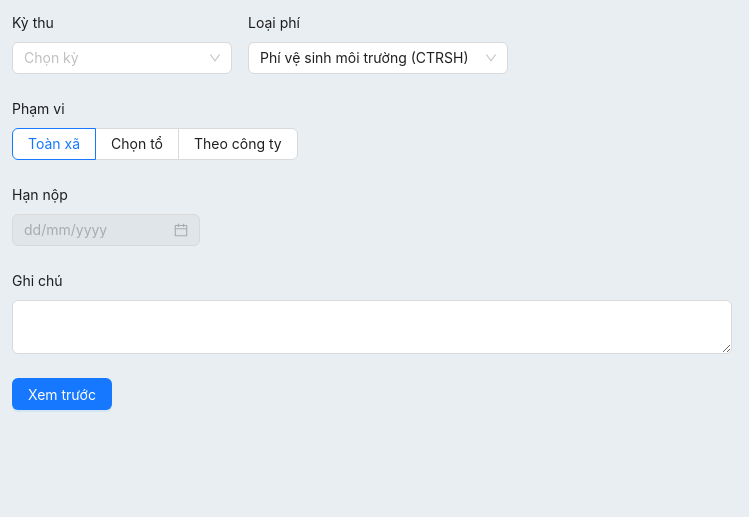
Test: ChargeRequestForm › phạm vi chọn tổ mà chưa chọn tổ thì báo lỗi
Click the button "Chọn tổ".
click(137, 144)  # box [111,135,163,152]
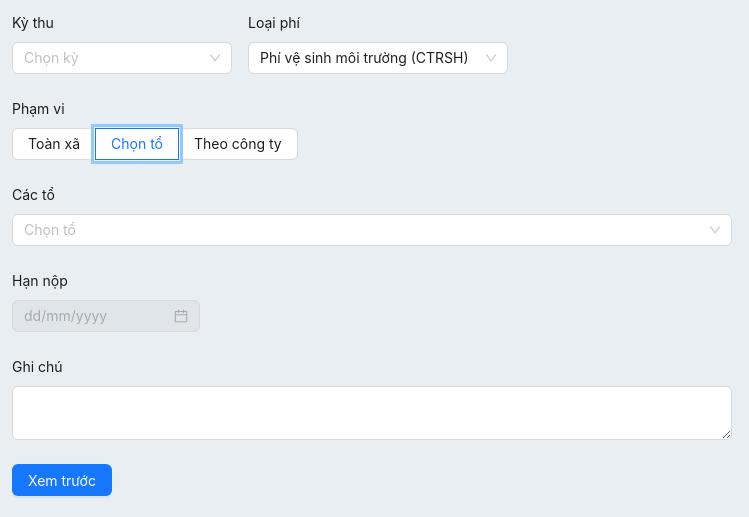
Click the button "Xem trước".
click(62, 480)  # box [12,464,112,496]
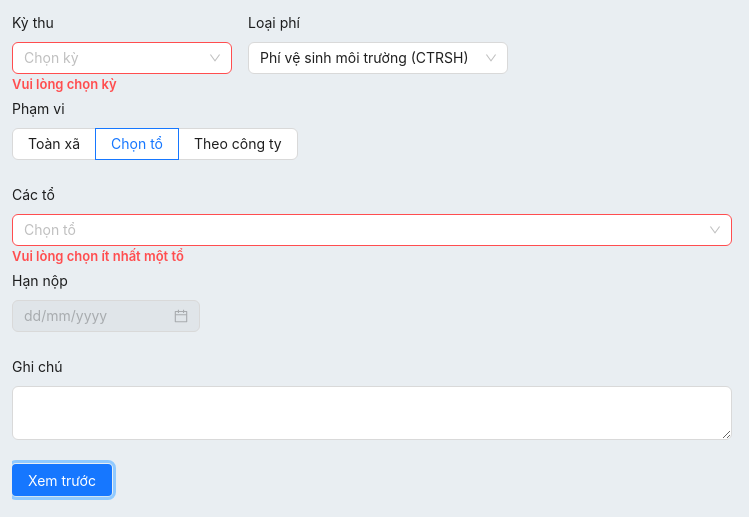
expect the text "Vui lòng chọn ít nhất một tổ" is shown: met, box [12,248,184,264]
